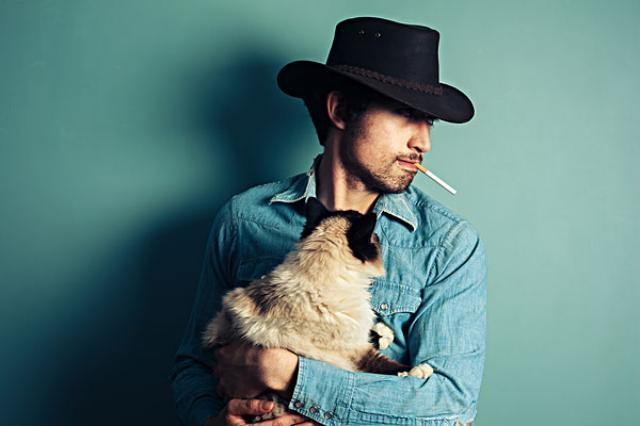Smoking: (414, 164, 458, 198)
